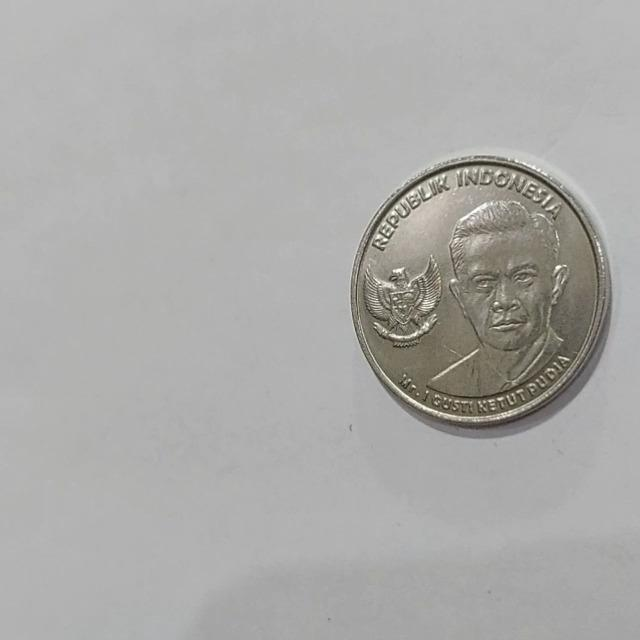Rp100: (350, 153, 611, 428), (422, 196, 574, 403)
